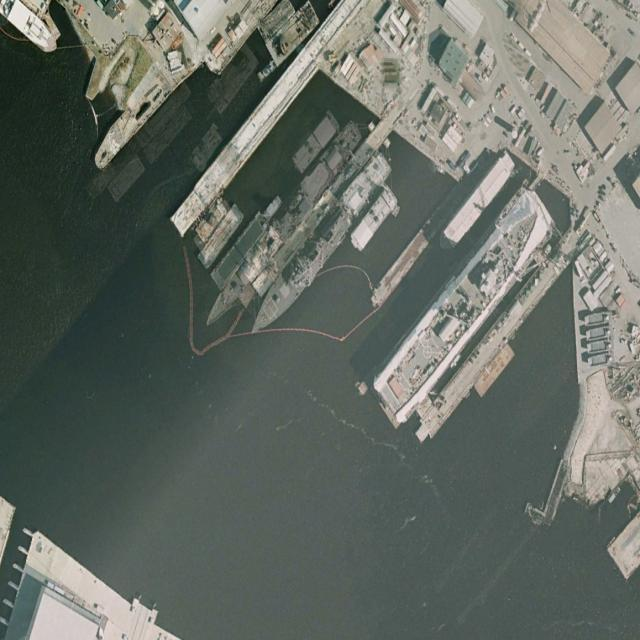Destroyer: (243, 145, 395, 348)
Landing: (376, 197, 549, 418)
